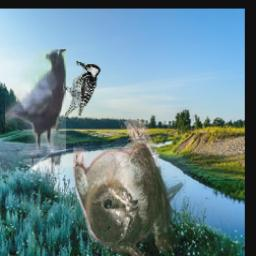Crow: (5, 49, 66, 174)
Swallow: (72, 118, 185, 256)
Woodpecker: (62, 60, 100, 116)
